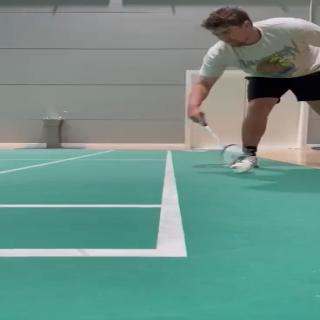Shuttle: (230, 162, 250, 172)
